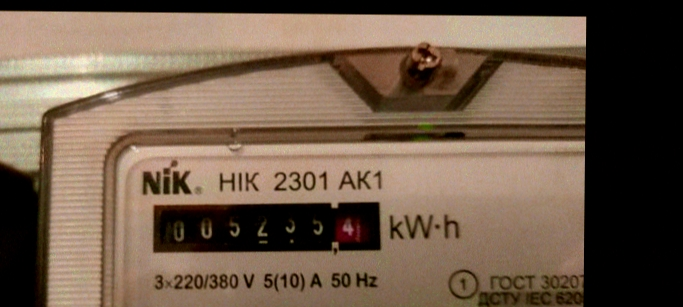0: (171, 217, 187, 243), (200, 216, 215, 240)
2: (255, 212, 271, 238)
3: (282, 210, 299, 235)
4: (340, 210, 358, 239)
5: (310, 209, 326, 237), (228, 213, 242, 238)
screen: (140, 189, 391, 264)
